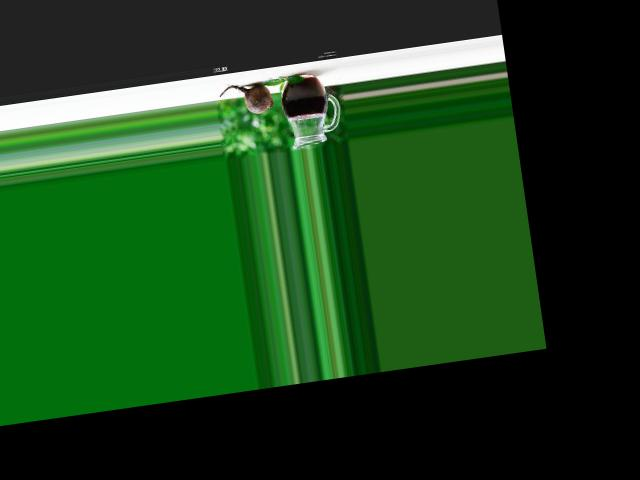beet: (219, 79, 274, 117)
